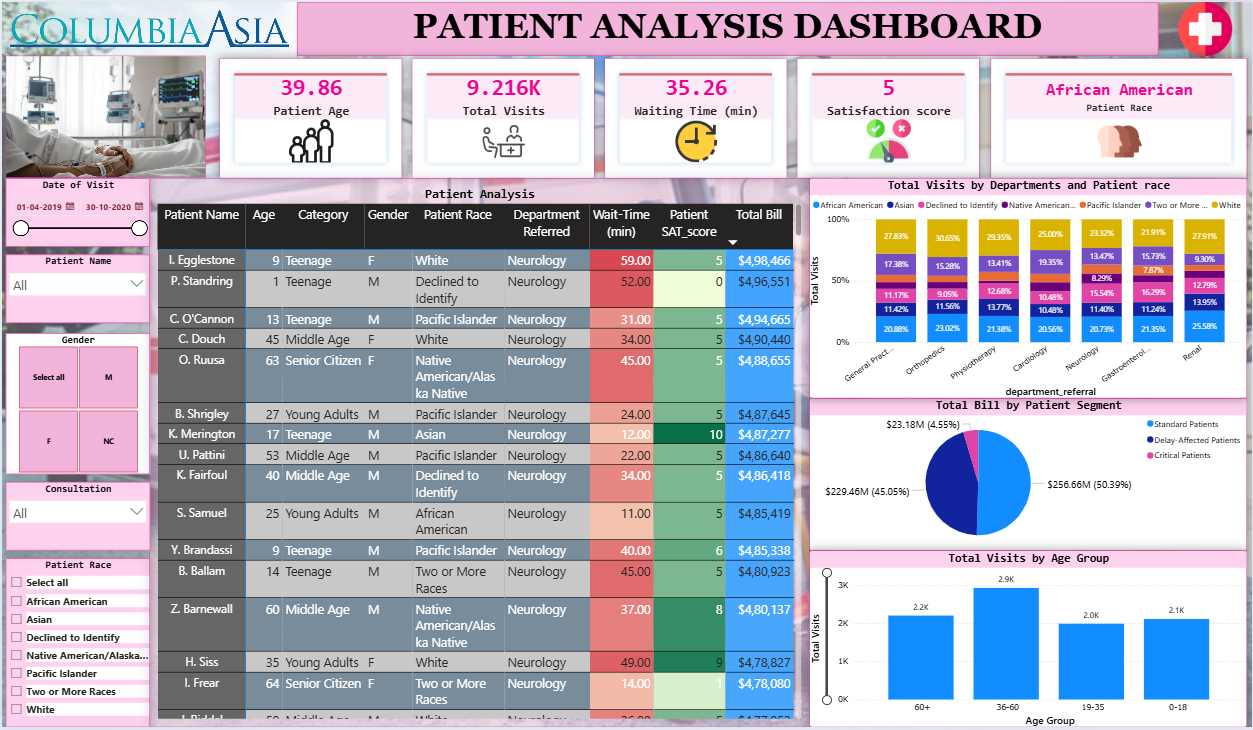

The dashboard page shown, as its layout file describes it:
{"tool":"powerbi","page":{"name":"Patients Tab","canvas":[2000,1160],"ordinal":2},"visuals":[{"type":"image","box":[0,0,472,86],"z":0},{"type":"image","box":[1850,0,150,86],"z":1000},{"type":"textbox","box":[472,0,1378,86],"z":2000},{"type":"slicer","title":"Date of Visit","fields":{"Values":["Calendar.date"]},"box":[5.6,281.2,231,109.9],"z":3000},{"type":"slicer","title":"Patient Name","fields":{"Values":["Hospital ER.Patient_name"]},"box":[5.6,404.2,231,109.9],"z":4000},{"type":"slicer","title":"Gender","fields":{"Values":["Hospital ER.patient_gender"]},"box":[5.6,530.8,231,225.4],"z":5000},{"type":"image","box":[5.6,85.7,320.4,195.6],"z":6000},{"type":"cardVisual","fields":{"Data":["Hospital ER.Average Patient SAT"]},"box":[1272,90,292,192],"z":7000},{"type":"cardVisual","fields":{"Data":["Hospital ER.Average Waiting Time"]},"box":[964,90,292,192],"z":8000},{"type":"cardVisual","fields":{"Data":["Avg(Hospital ER.patient_age)"]},"box":[348,90,292,192],"z":9000},{"type":"cardVisual","fields":{"Data":["Hospital ER.Total Visits"]},"box":[656,90,292,192],"z":10000},{"type":"cardVisual","fields":{"Data":["Min(Hospital ER.patient_race)"]},"box":[1582,90,410,192],"z":11000},{"type":"slicer","title":"Patient Race","fields":{"Values":["Hospital ER.patient_race"]},"box":[5.6,890.3,231,270.1],"z":12000},{"type":"pivotTable","title":"Patient Analysis","fields":{"Rows":["Hospital ER.Patient_name"],"Values":["Hospital ER.Selected Patient Age","Min(Hospital ER.Age Category)","Min(Hospital ER.patient_gender)","Min(Hospital ER.patient_race)","Min(Hospital ER.department_referral)","Hospital ER.Average Waiting Time","Hospital ER.Average Patient SAT","Sum(Doctor-Patients Data.Total Bill)"]},"box":[236,282,1056,878],"z":13000},{"type":"pieChart","title":"Total Bill by Patient Segment","fields":{"Category":["Doctor-Patients Data.Patient Segment"],"Y":["Sum(Doctor-Patients Data.Total Bill)"]},"box":[1292,634,700,244],"z":14000},{"type":"columnChart","fields":{"Category":["Hospital ER .Age Group"],"Y":["Calendar.Total Visits"]},"box":[1292,878,700,282],"z":15000},{"type":"hundredPercentStackedColumnChart","title":"Total Visits by Departments and Patient race","fields":{"Category":["Hospital ER.department_referral"],"Y":["Hospital ER.Total Visits"],"Series":["Hospital ER.patient_race"]},"box":[1292,282,700,352],"z":16000},{"type":"slicer","title":"Consultation","fields":{"Values":["Doctor-Patients Data.department_referral"]},"box":[5.6,767.4,231,109.9],"z":17000}]}

Visuals, with their boxes in screenshot pixels (x1, y1, x2, y2), scaled from the page's 2000x1160 canvas onto the 1253x730 screenshot:
image: x1=0 y1=0 x2=296 y2=54
image: x1=1159 y1=0 x2=1252 y2=54
textbox: x1=296 y1=0 x2=1159 y2=54
"Date of Visit" slicer: x1=4 y1=177 x2=148 y2=246
"Patient Name" slicer: x1=4 y1=254 x2=148 y2=324
"Gender" slicer: x1=4 y1=334 x2=148 y2=476
image: x1=4 y1=54 x2=204 y2=177
cardVisual - Hospital ER.Average Patient SAT: x1=797 y1=57 x2=980 y2=177
cardVisual - Hospital ER.Average Waiting Time: x1=604 y1=57 x2=787 y2=177
cardVisual - Avg(Hospital ER.patient_age): x1=218 y1=57 x2=401 y2=177
cardVisual - Hospital ER.Total Visits: x1=411 y1=57 x2=594 y2=177
cardVisual - Min(Hospital ER.patient_race): x1=991 y1=57 x2=1248 y2=177
"Patient Race" slicer: x1=4 y1=560 x2=148 y2=729
"Patient Analysis" pivotTable: x1=148 y1=177 x2=809 y2=729
"Total Bill by Patient Segment" pieChart: x1=809 y1=399 x2=1248 y2=553
columnChart - Hospital ER .Age Group x Calendar.Total Visits: x1=809 y1=553 x2=1248 y2=729
"Total Visits by Departments and Patient race" hundredPercentStackedColumnChart: x1=809 y1=177 x2=1248 y2=399
"Consultation" slicer: x1=4 y1=483 x2=148 y2=552
